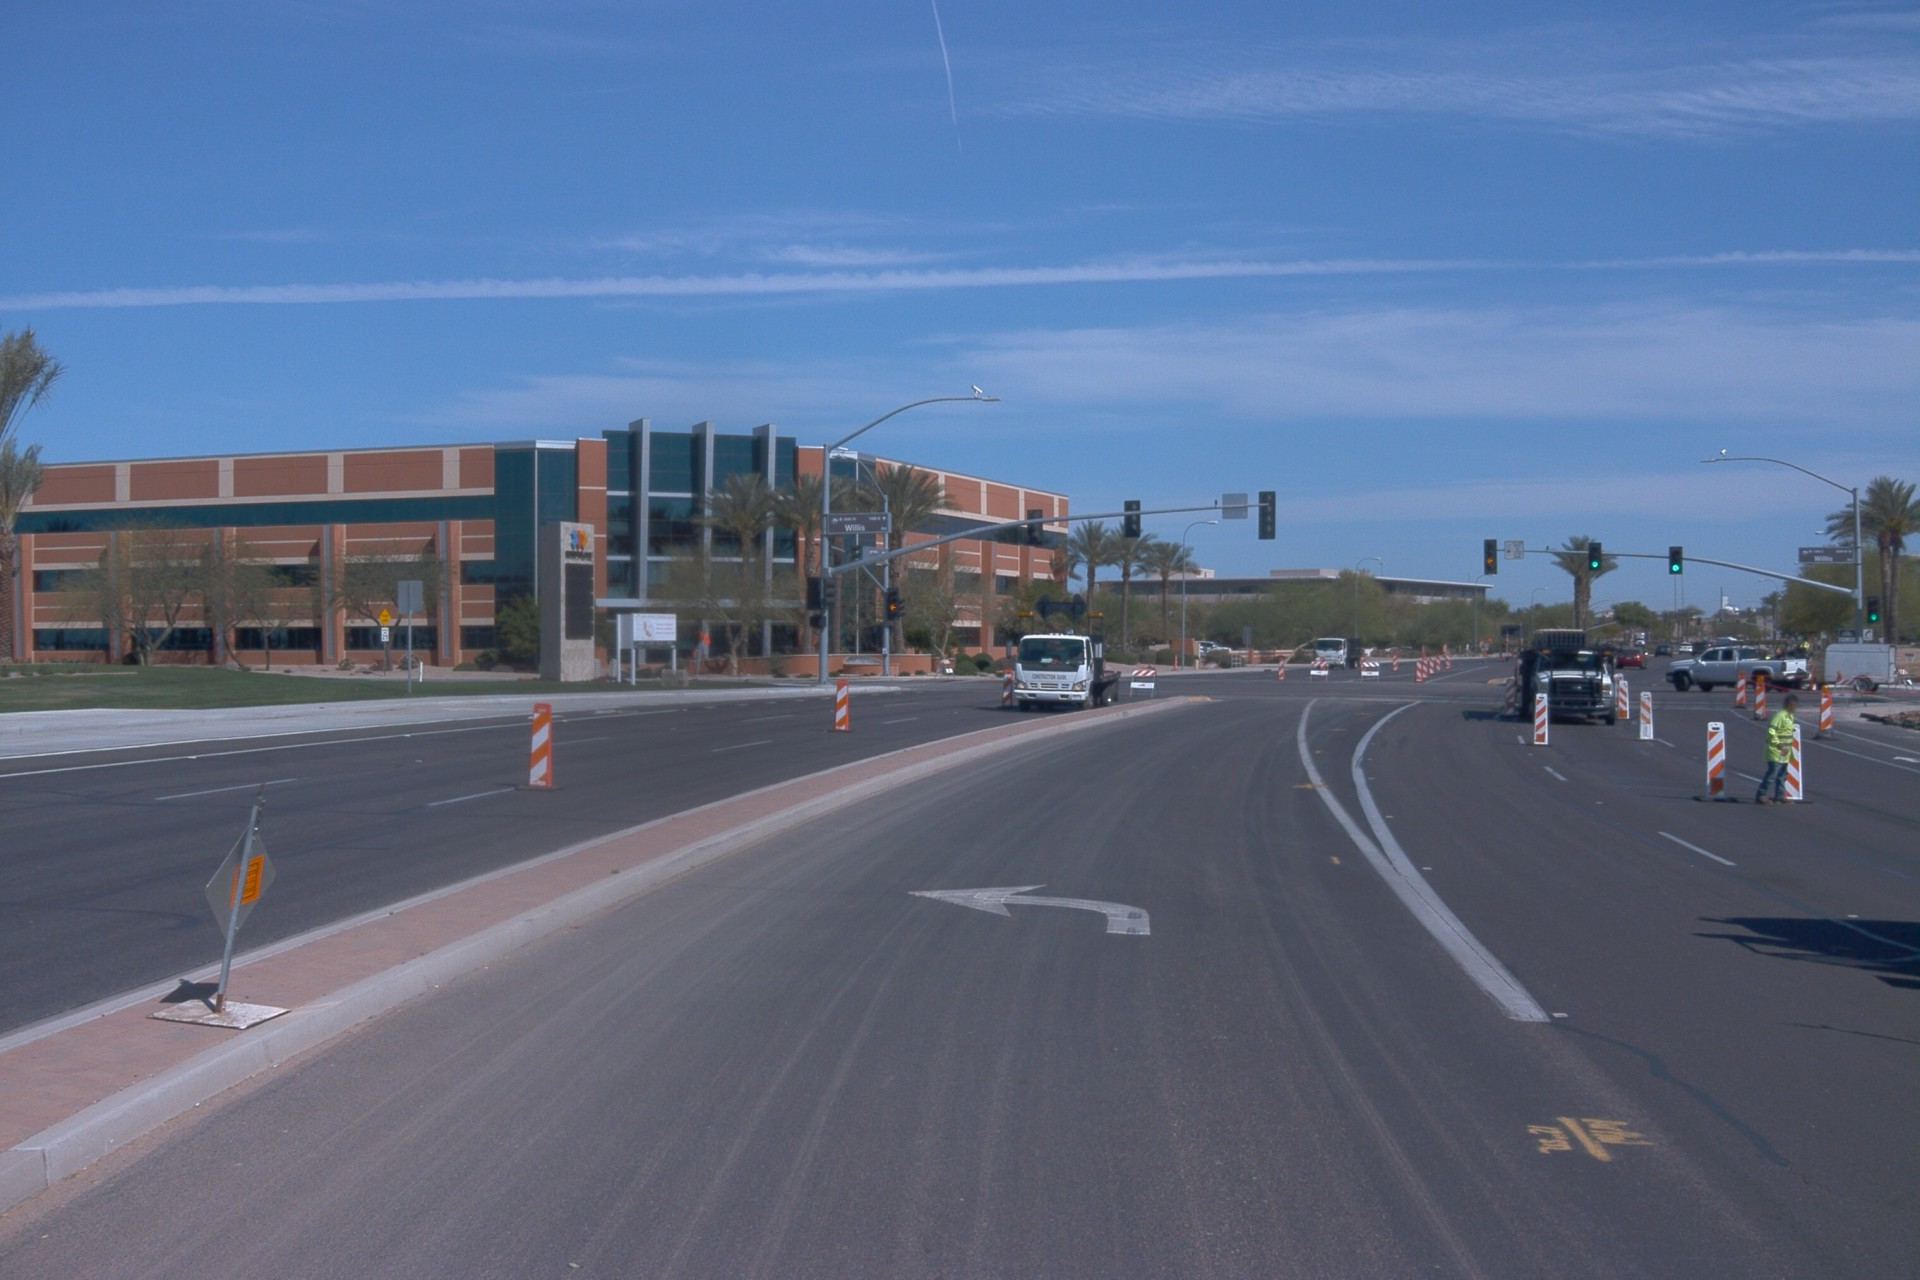TYPE_PEDESTRIAN: (1756, 694, 1799, 809)
TYPE_VEHICLE: (1507, 626, 1621, 733), (1005, 628, 1122, 714), (1663, 639, 1816, 694), (1819, 636, 1901, 701), (1314, 636, 1366, 674), (1614, 645, 1650, 673), (1196, 637, 1234, 657), (1688, 638, 1714, 658), (1651, 642, 1674, 662), (1676, 640, 1695, 656), (1633, 633, 1648, 648), (1513, 664, 1518, 685)
